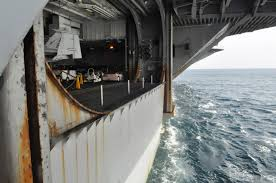rust: (23, 38, 42, 183), (53, 87, 80, 113), (163, 66, 170, 97)
